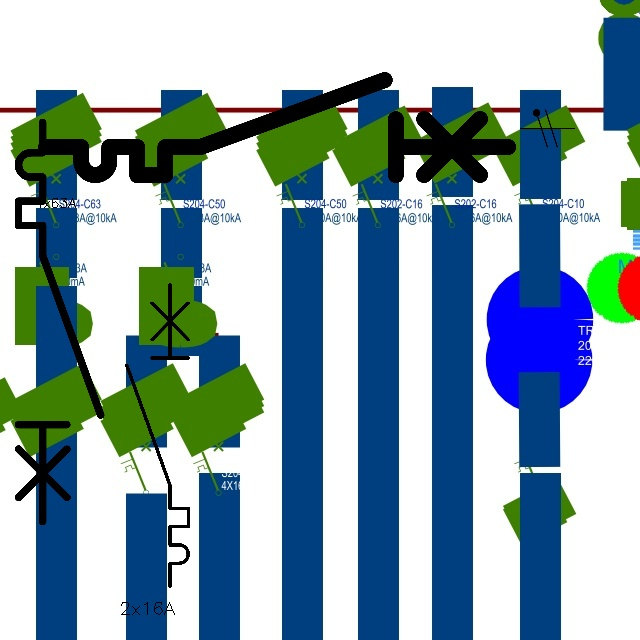interruptor_termomagnetico: (34, 68, 520, 187), (8, 112, 111, 532), (119, 277, 196, 594)
